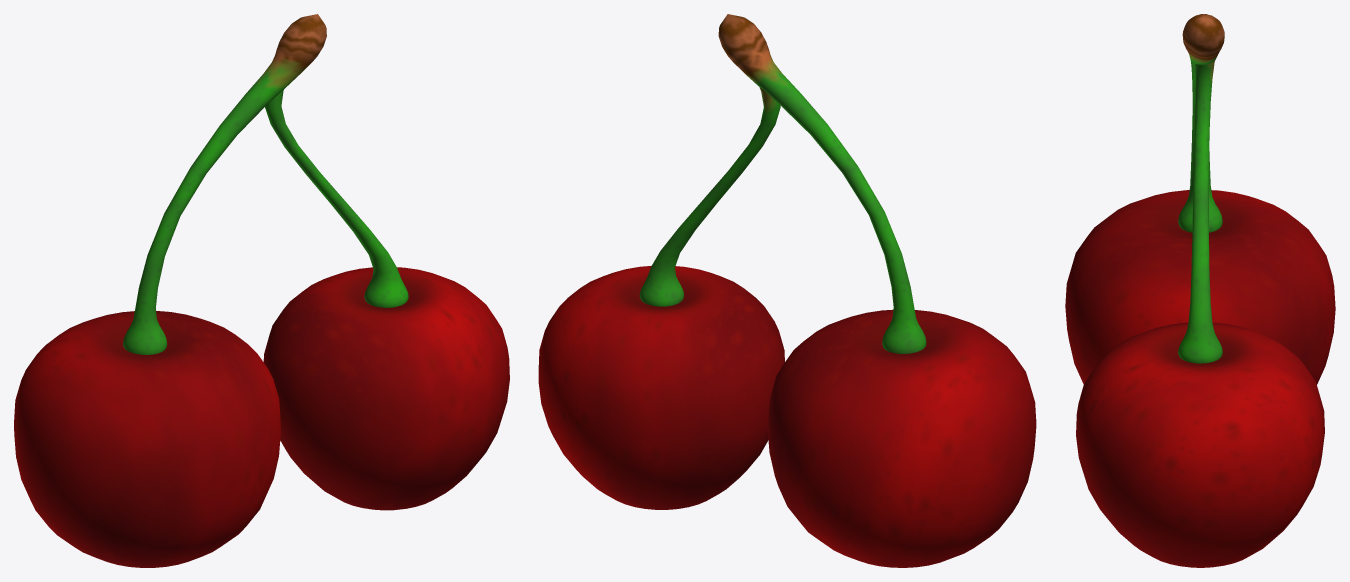
Rendered from cherries.obj.
The picture shows the model from 3 angles, left to right: view 1: azimuth 30°, elevation 25°; view 2: azimuth 150°, elevation 25°; view 3: azimuth 270°, elevation 25°; orthographic projection.
Parts seen in each view (by area): view 1: Sphere.003_Sphere.006; view 2: Sphere.003_Sphere.006; view 3: Sphere.003_Sphere.006.
Part boxes in pixels (x1,y1,x2,y2): Sphere.003_Sphere.006: (14, 14, 509, 567); Sphere.003_Sphere.006: (538, 14, 1036, 567); Sphere.003_Sphere.006: (1065, 14, 1335, 567).
Bounding box in the file's own units: 1.59 × 1.62 × 0.796.
Materials: 1 (1 with a texture image).
